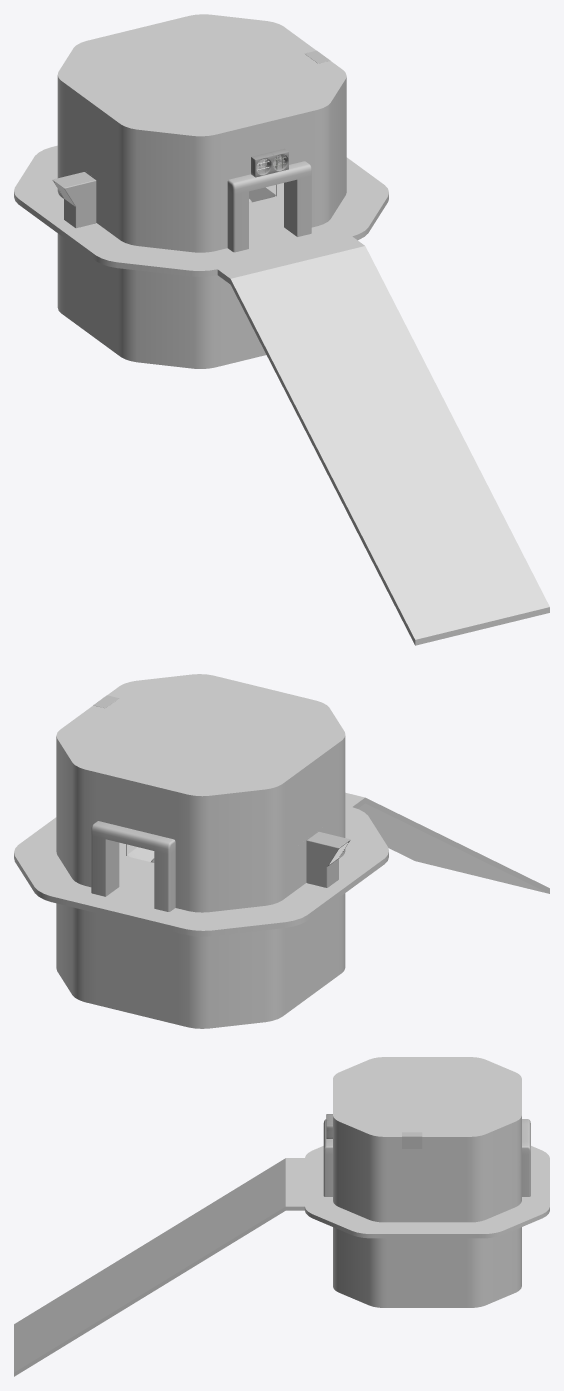
File: mainbulid.fbx
3 views of the same model, one above another, from view 1: azimuth 30°, elevation 25°; view 2: azimuth 150°, elevation 25°; view 3: azimuth 270°, elevation 25° (orthographic). The views are drawn at different scales.
Visible parts, largest first — view 1: Cube.002, Cube.018, Cube.019, Cube, Cube.017, Cube.060; view 2: Cube, Cube.018, Cube.019, Cube.002, Cube.004, Cube.060, Cube.006; view 3: Cube.002, Cube.018, Cube.019, Cube, Cube.004, Cube.017.
Boxes of the visible parts, x1,y1,x2,y2 form: Cube.002: [14, 145, 549, 645]; Cube.018: [57, 14, 346, 252]; Cube.019: [58, 14, 346, 136]; Cube: [57, 183, 290, 368]; Cube.017: [227, 161, 311, 252]; Cube.060: [52, 172, 96, 228]; Cube: [56, 842, 345, 1028]; Cube.018: [56, 674, 345, 912]; Cube.019: [56, 674, 345, 795]; Cube.002: [14, 792, 549, 936]; Cube.004: [91, 821, 175, 911]; Cube.060: [306, 831, 350, 887]; Cube.006: [298, 825, 326, 887]; Cube.002: [14, 1146, 549, 1376]; Cube.018: [333, 1057, 521, 1222]; Cube.019: [333, 1057, 521, 1136]; Cube: [333, 1227, 521, 1307]; Cube.004: [522, 1119, 530, 1196]; Cube.017: [323, 1119, 332, 1196].
Bounding box in the file's own units: 1298 × 1497 × 2838.
